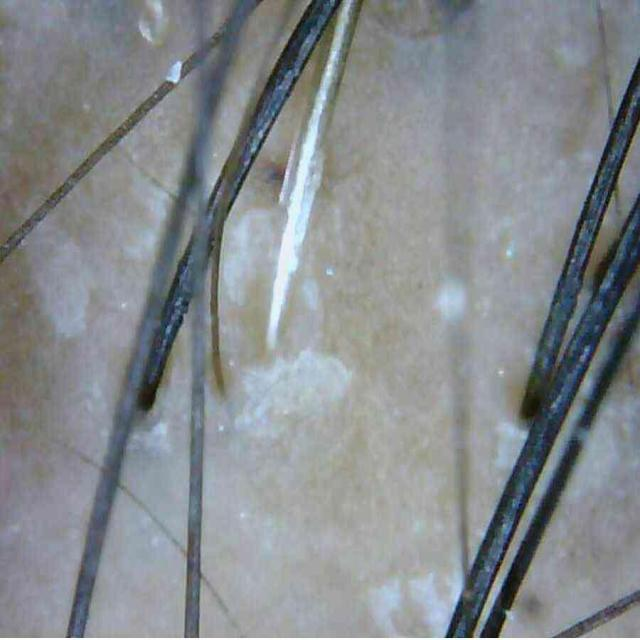d: (232, 345, 351, 427), (226, 202, 281, 303), (138, 0, 169, 47), (496, 415, 526, 462), (435, 279, 466, 323), (161, 60, 182, 86)
ds: (25, 222, 90, 338)
